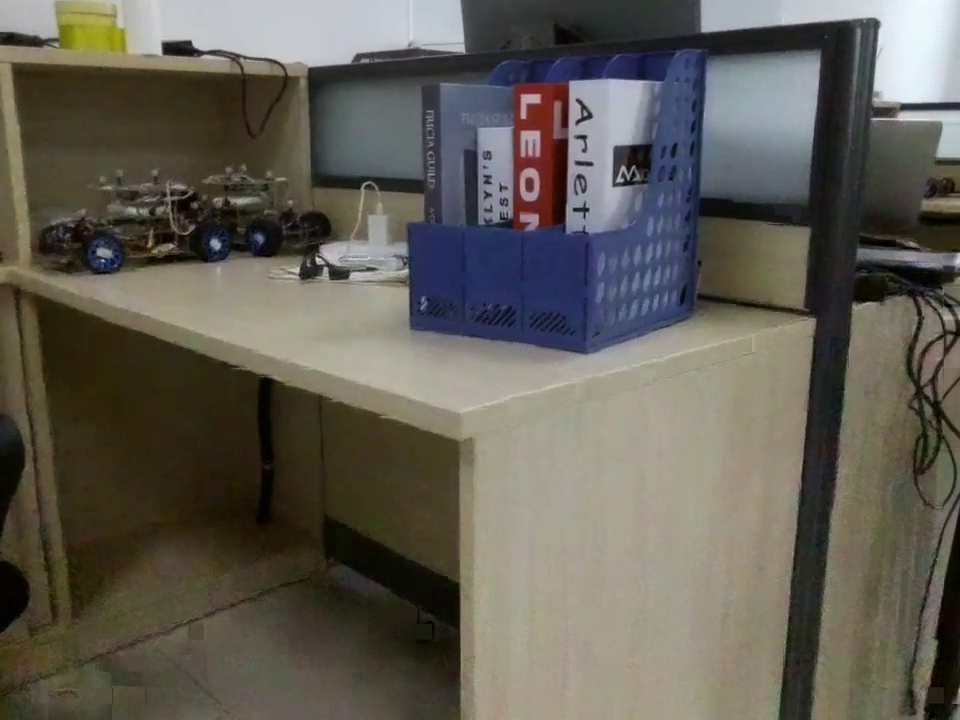files: (399, 45, 712, 354)
